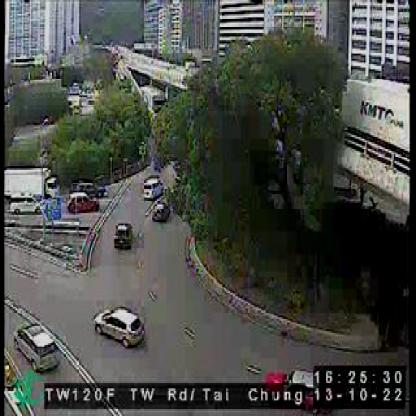Car: (13, 323, 60, 374), (94, 307, 144, 348), (67, 190, 102, 213), (10, 191, 42, 212), (74, 180, 109, 198), (114, 221, 134, 251), (143, 176, 164, 200), (153, 200, 171, 222)
Truck: (4, 166, 56, 204)
